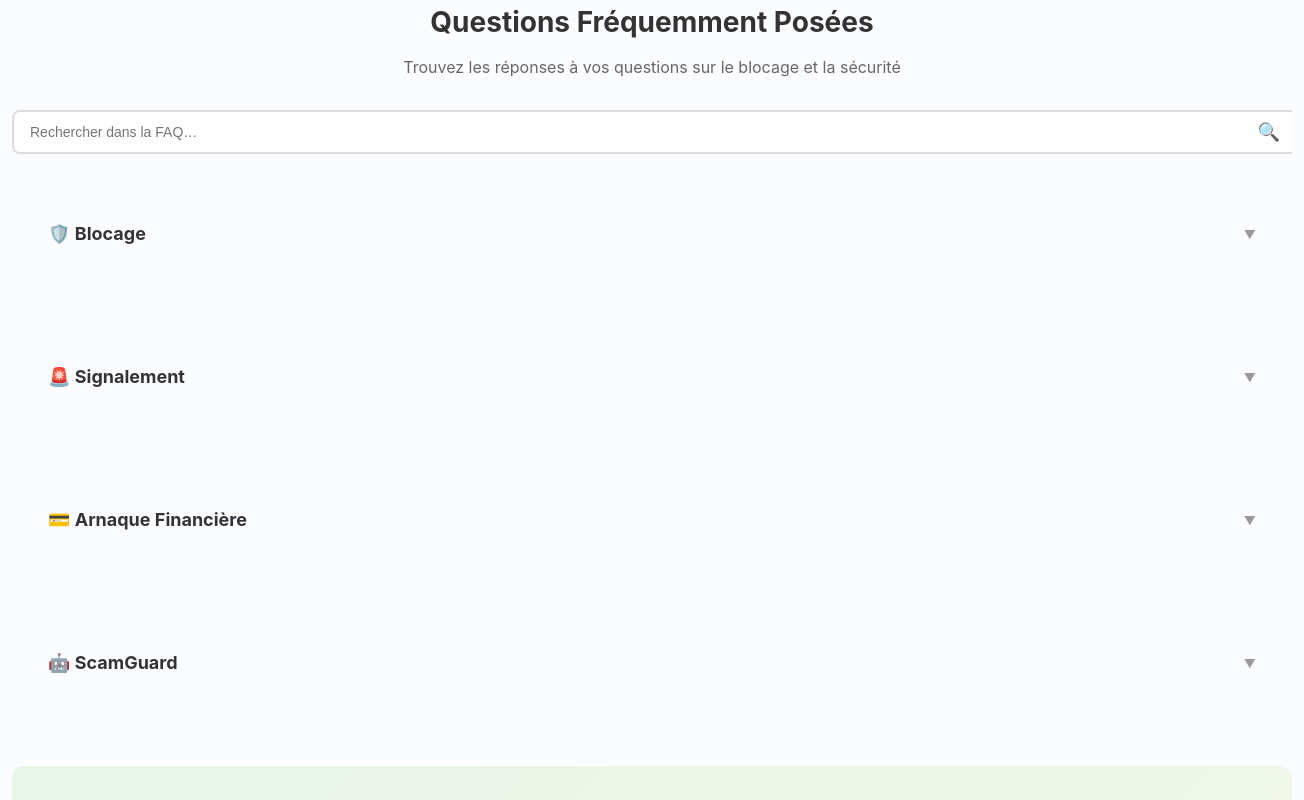
Test: FAQSection › Empty State › displays no-results div for empty search
Type "xyznoexist" into the field with class "search-input" at (652, 132), box [12,110,1292,154]
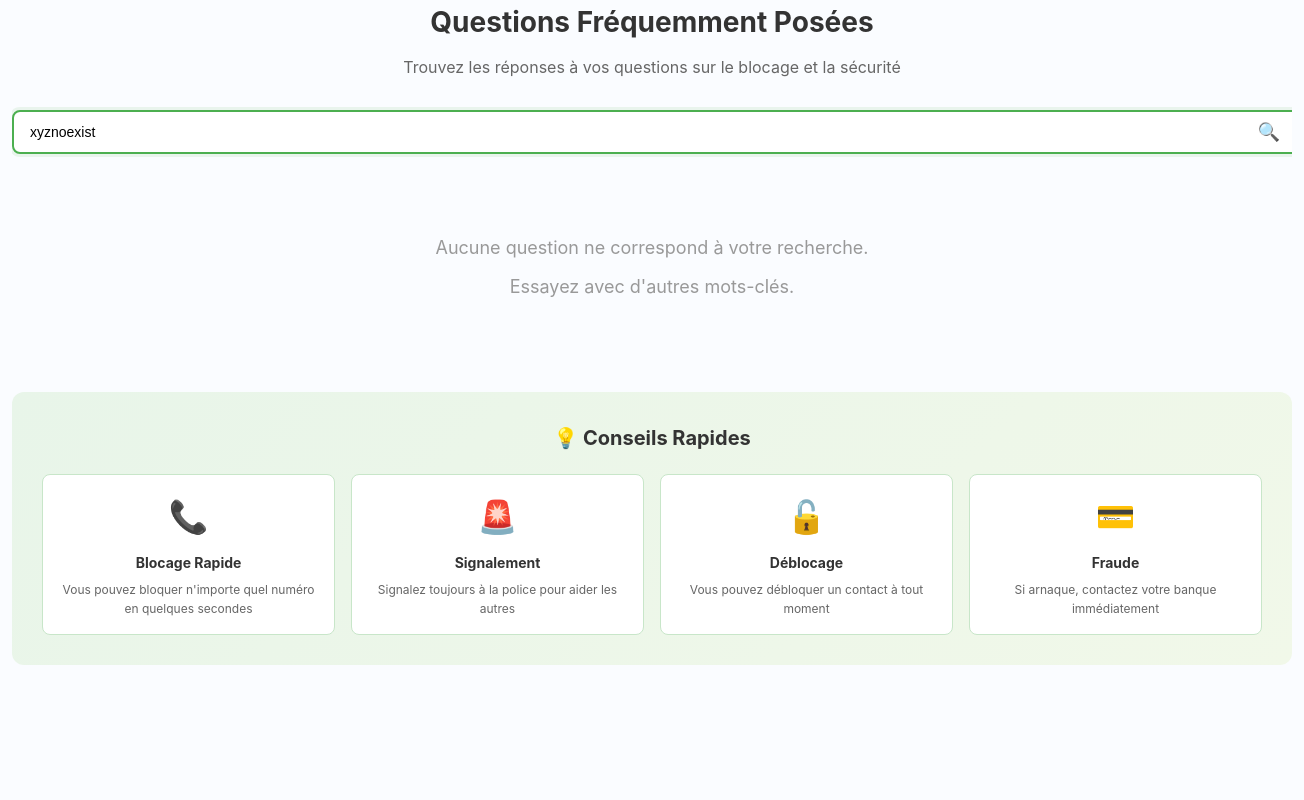
Result: the element with class "no-results" is shown at [436,237,868,297]
